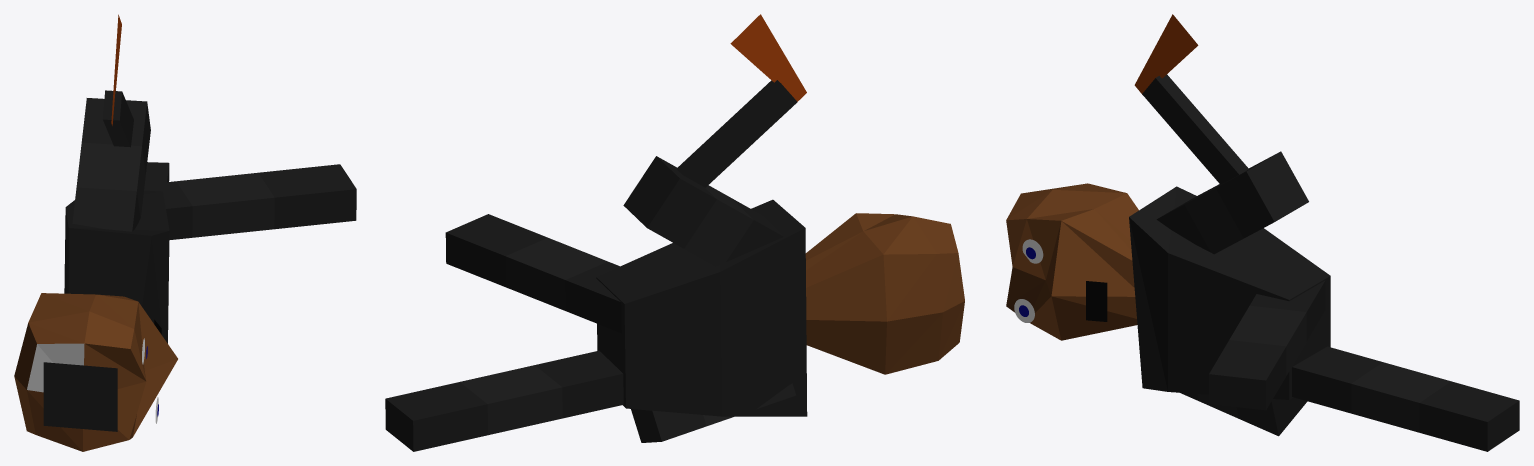
File: axeman3d.obj
3 renders of one model, left to right at view 1: azimuth 30°, elevation 25°; view 2: azimuth 150°, elevation 25°; view 3: azimuth 270°, elevation 25°, orthographic. The views are drawn at different scales.
Visible parts, largest first — view 1: Cube, Cube.005, Cube.001, Cube.002, Plane.002, Cube.007, Cube.004, Plane.001; view 2: Cube.001, Cube, Cube.004, Cube.005, Cube.002, Cube.007, Plane.001, Cube.003; view 3: Cube.001, Cube, Cube.004, Cube.005, Cube.002, Cube.007, Plane.001, Cube.003, Plane.
Boxes of the visible parts, x1,y1,x2,y2 form: Cube: [14, 293, 177, 451]; Cube.005: [144, 164, 356, 240]; Cube.001: [64, 190, 169, 343]; Cube.002: [72, 98, 150, 231]; Plane.002: [43, 362, 117, 431]; Cube.007: [103, 90, 133, 147]; Cube.004: [144, 162, 169, 184]; Plane.001: [111, 14, 121, 125]; Cube.001: [596, 199, 807, 416]; Cube: [805, 213, 964, 374]; Cube.004: [385, 350, 623, 451]; Cube.005: [445, 214, 621, 333]; Cube.002: [623, 156, 783, 266]; Cube.007: [676, 80, 797, 187]; Plane.001: [730, 14, 806, 101]; Cube.003: [631, 383, 795, 442]; Cube.001: [1129, 186, 1330, 399]; Cube: [1006, 183, 1138, 340]; Cube.004: [1292, 346, 1519, 451]; Cube.005: [1209, 280, 1325, 410]; Cube.002: [1156, 151, 1308, 254]; Cube.007: [1142, 74, 1248, 184]; Plane.001: [1134, 14, 1198, 94]; Cube.003: [1180, 392, 1307, 436]; Plane: [1086, 281, 1107, 321].
Size of the model in its own units: 4.83 by 4.51 by 5.46.
